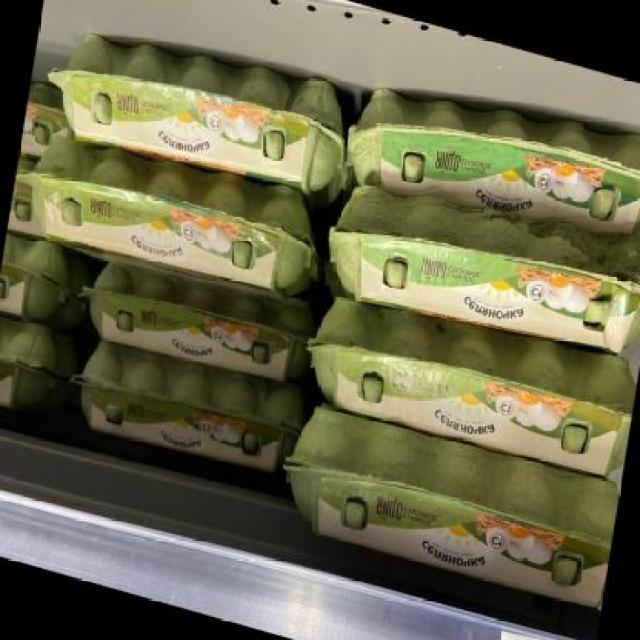Egg: (283, 398, 620, 613), (303, 281, 639, 493), (322, 166, 640, 380), (47, 9, 356, 220), (345, 56, 640, 276), (21, 121, 328, 324), (61, 329, 308, 494), (75, 251, 319, 400), (0, 224, 85, 342), (0, 308, 71, 427)
